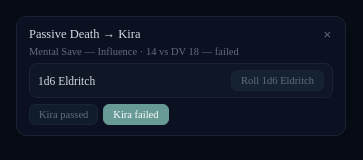
Test case: VttResolutionCard › will not offer to re-roll damage the Curator already committed
What coordinates should you click on to do the following:
click the button "Roll 1d6 Eldritch"
I would click on:
 (278, 80)
Its box is [231,70,324,91].
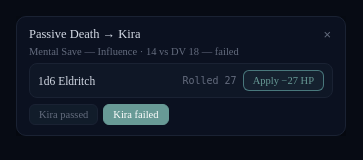
What coordinates should you click on to do the following:
click the button "Apply −27 HP"
I would click on:
 (283, 80)
Its box is [243,70,324,91].
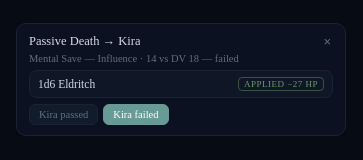
Expected: the text "Applied −27 HP" is shown, [238,77,324,91]
